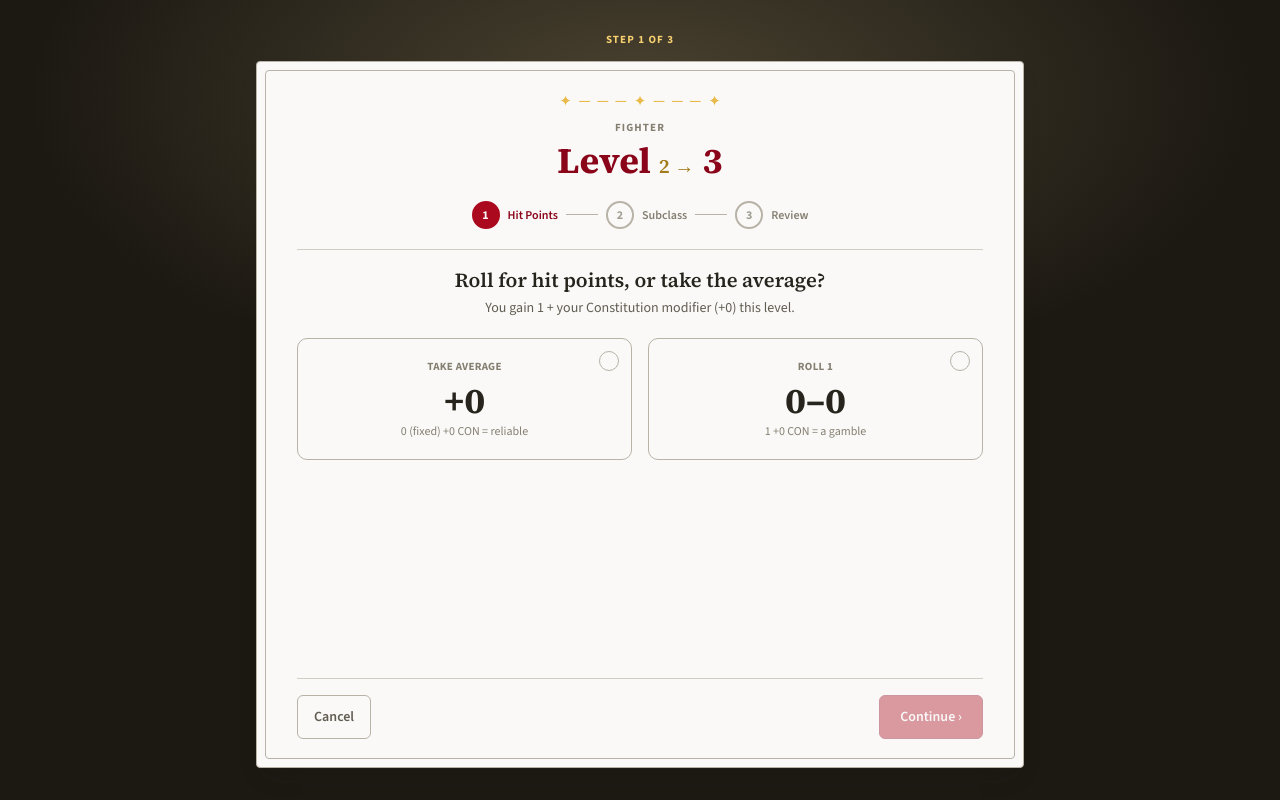
Test case: SubclassStep in the ceremony › re-plans with the chosen subclassId, growing the rail while staying on the subclass step
Expected: the text "Step 1 of 3" is shown, [606,32,674,47]
Click the button "Take average +0 0 (fixed) +0 CON = reliable" at coordinates (464, 399), box [297,338,632,460]
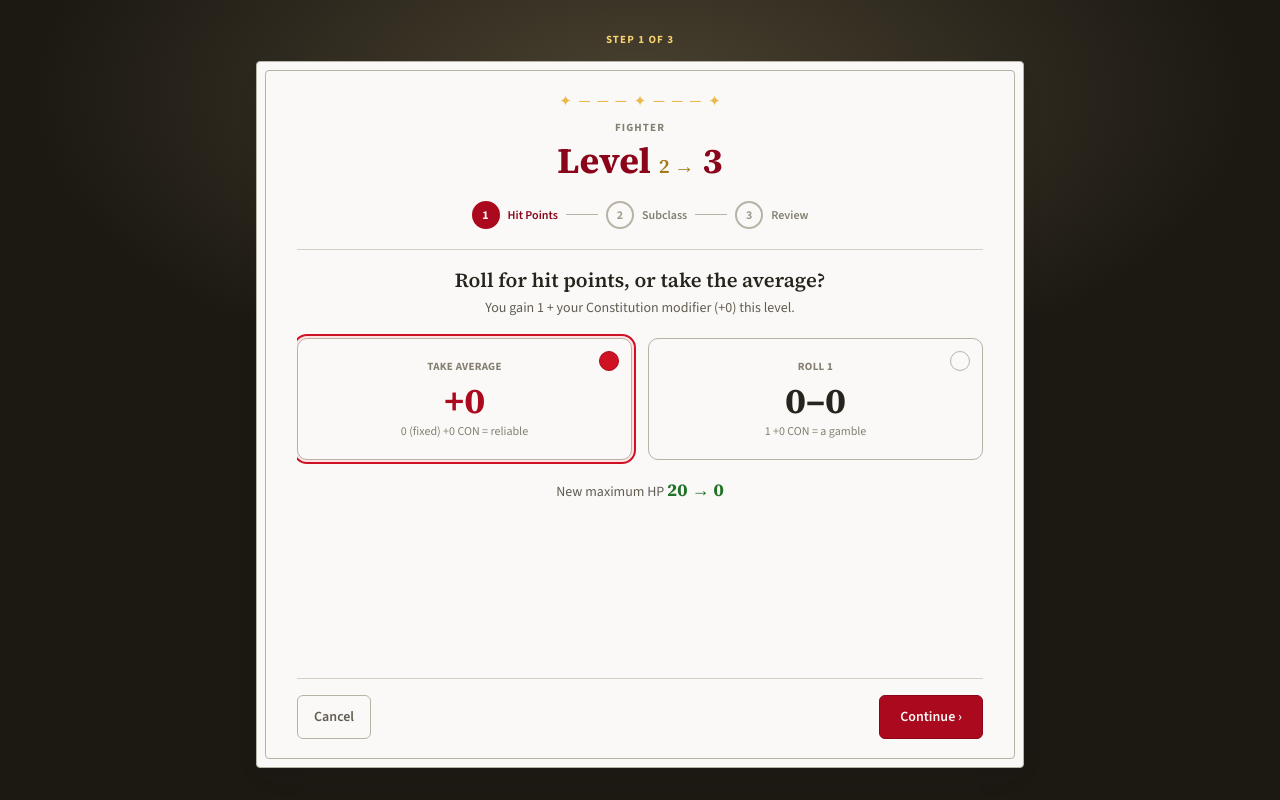
Click the button "Continue ›" at coordinates (931, 717), box [879,695,983,739]
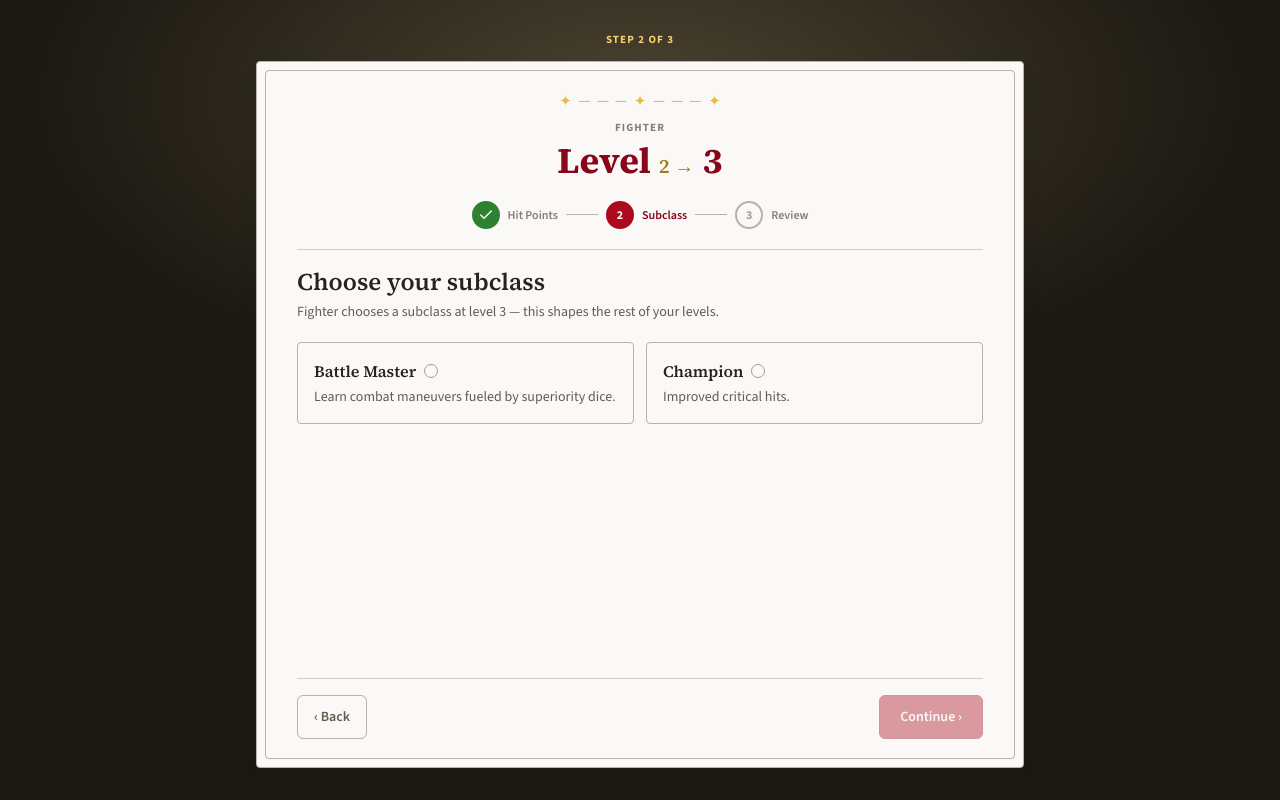
Click the radio button labelled "Battle Master" at coordinates (365, 370), box [297,342,634,424]
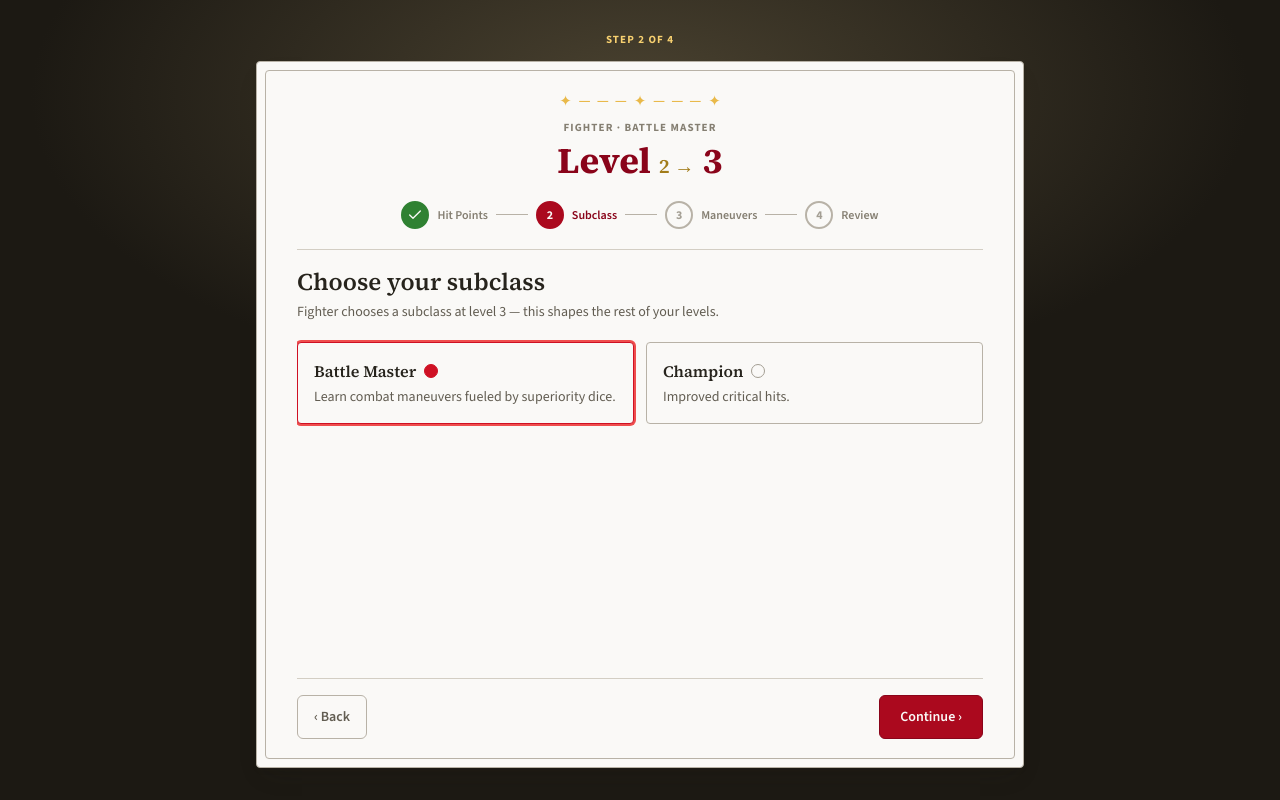
Expected: the text "Step 2 of 4" is shown, [606,32,674,47]
